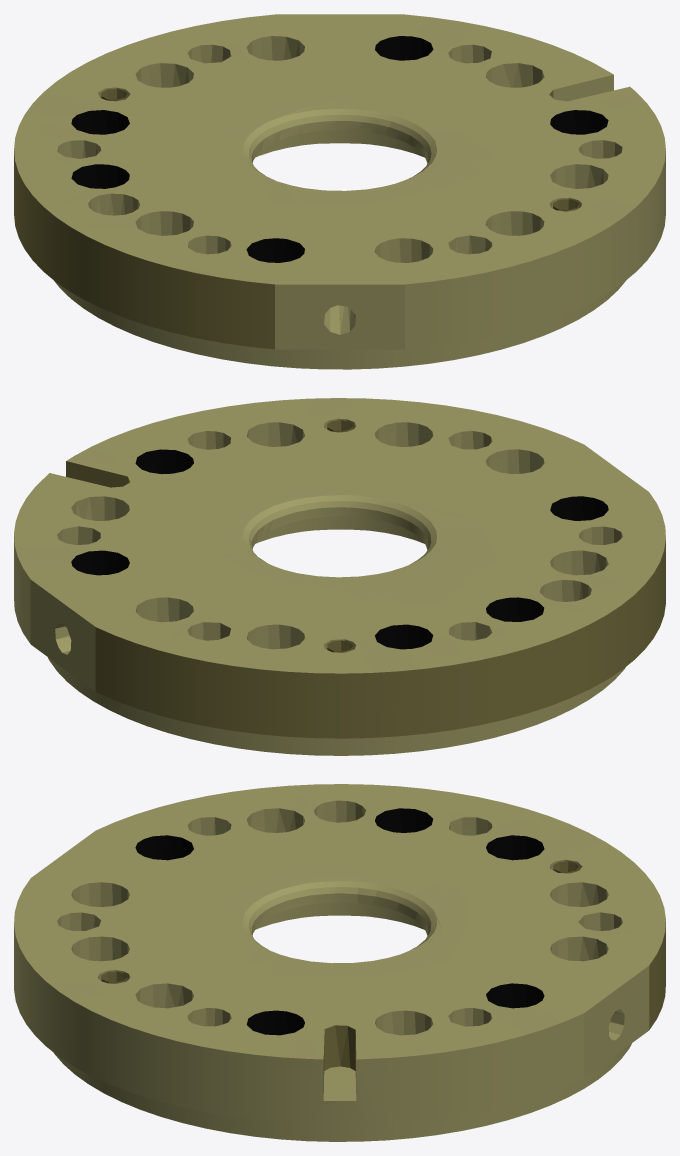
The picture shows the model from 3 angles, top to bottom: view 1: azimuth 30°, elevation 25°; view 2: azimuth 150°, elevation 25°; view 3: azimuth 270°, elevation 25°; orthographic projection.
Parts seen in each view (by area): view 1: link_t; view 2: link_t; view 3: link_t.
Part boxes in pixels (x1,y1,x2,y2): link_t: (14, 14, 665, 369); link_t: (14, 398, 665, 755); link_t: (14, 784, 665, 1141).
Bounding box in the file's own units: 0.1 × 0.1 × 0.0158.
